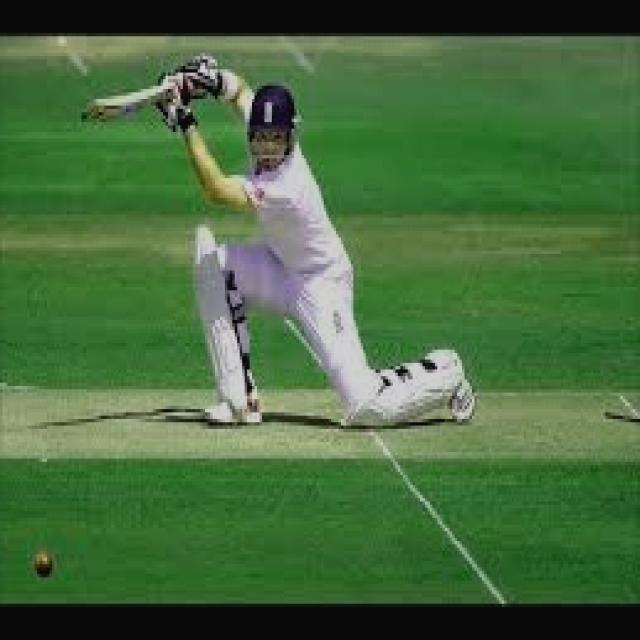bat: (71, 68, 191, 131)
toe: (82, 100, 107, 120)
